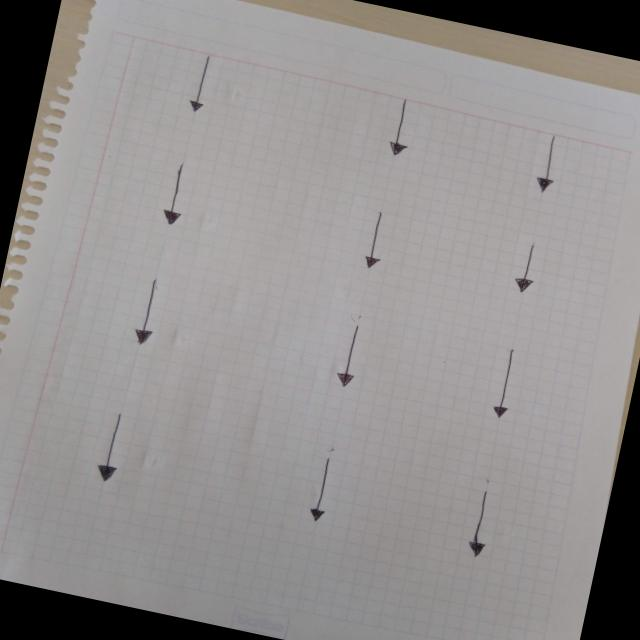arrow_line_down: (114, 272, 180, 347), (83, 402, 137, 490), (482, 342, 534, 427), (322, 315, 372, 392), (294, 449, 343, 526), (454, 486, 504, 561), (385, 95, 437, 166), (523, 134, 571, 203), (152, 160, 198, 232), (352, 210, 398, 276), (182, 50, 225, 119), (506, 241, 547, 299)
